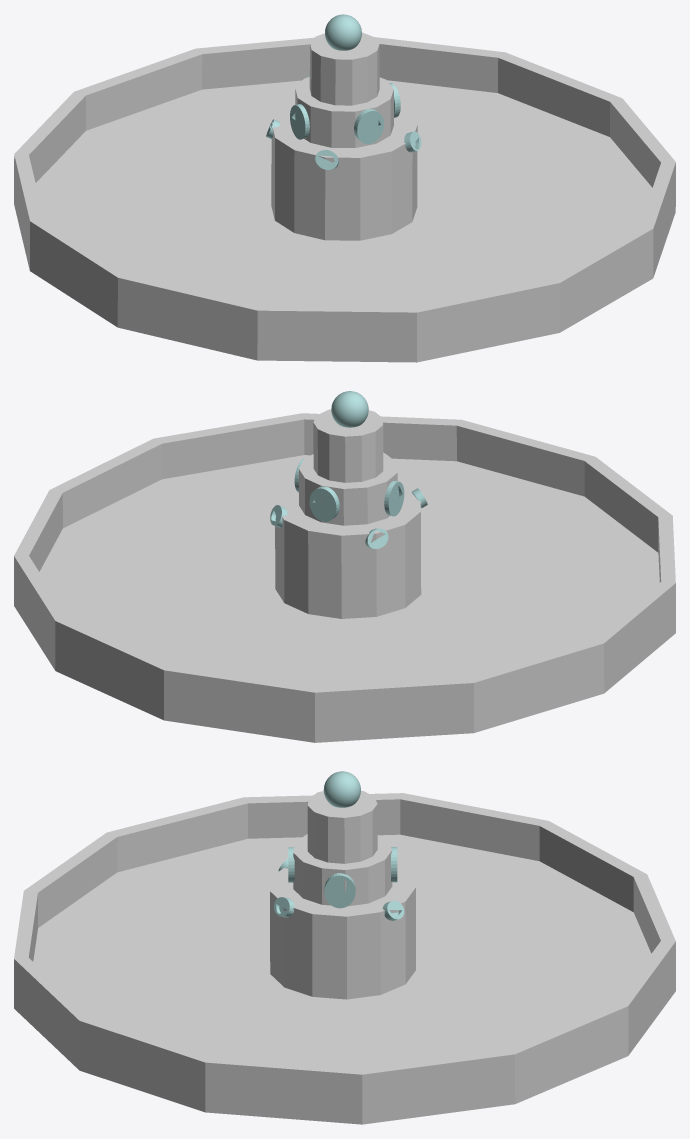
File: Fountain.fbx
3 views of the same model, one above another, from view 1: azimuth 30°, elevation 25°; view 2: azimuth 150°, elevation 25°; view 3: azimuth 270°, elevation 25° (orthographic).
Visible parts, largest first — view 1: WaterFountain, Sphere, Cylinder, Cylinder.003; view 2: WaterFountain, Sphere, Cylinder.002, Cylinder.003; view 3: WaterFountain, Sphere, Cylinder.001.
Boxes of the visible parts, x1,y1,x2,y2 form: WaterFountain: (14,32,675,362); Sphere: (325,14,361,50); Cylinder: (354,109,383,144); Cylinder.003: (290,104,309,139); WaterFountain: (14,409,675,742); Sphere: (331,391,368,427); Cylinder.002: (309,486,339,521); Cylinder.003: (384,480,404,516); WaterFountain: (14,790,675,1124); Sphere: (323,771,360,807); Cylinder.001: (324,873,355,908).
Bounding box in the file's own units: 816 × 286 × 816.
